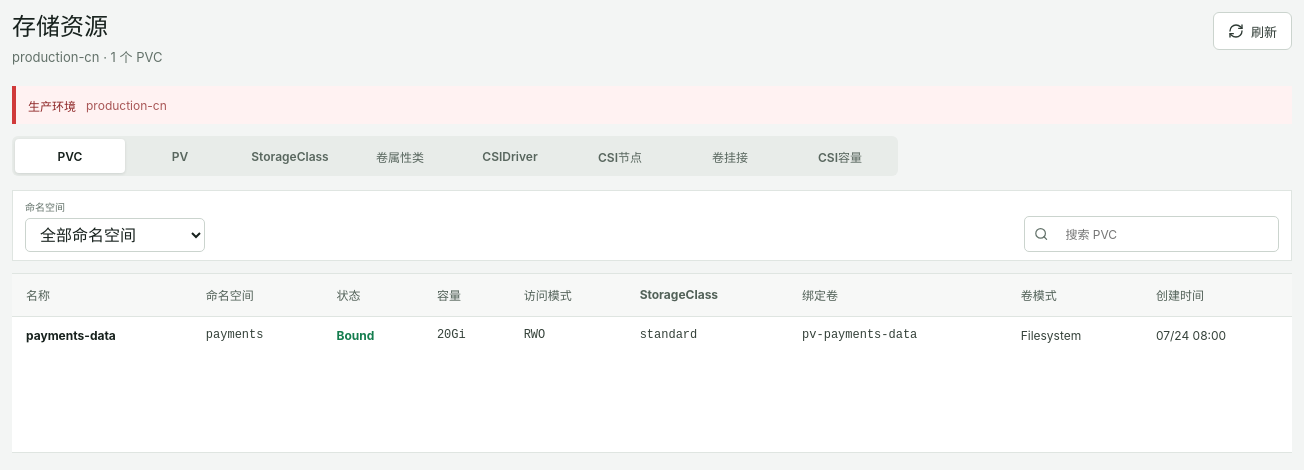
Scenario: StoragePage › aborts an active claim refresh when the storage kind changes
Expected: the text "payments-data" is shown, [26, 328, 116, 342]
Click the button "刷新": (1252, 31) [1213, 12, 1292, 50]
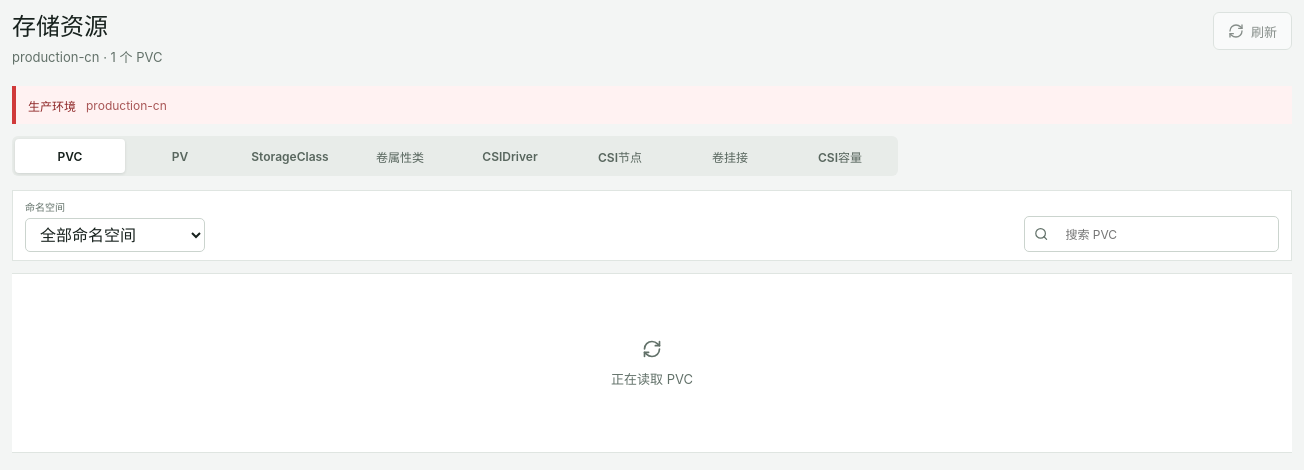
Click the button "PV": (180, 156) [125, 139, 235, 173]
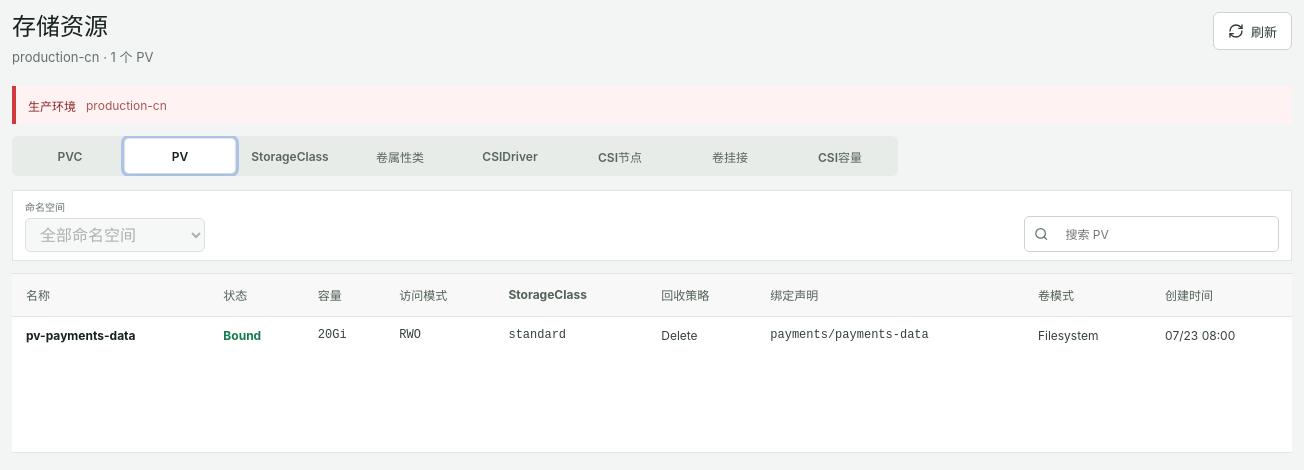
Expected: the text "pv-payments-data" is shown, [26, 328, 136, 342]
